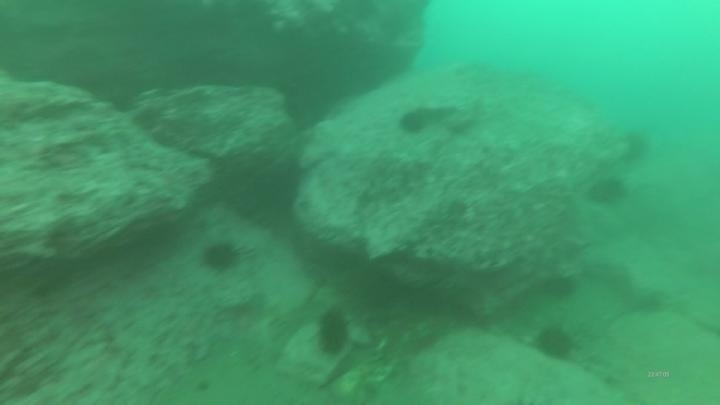echinus: (313, 305, 353, 360), (532, 323, 578, 364), (584, 174, 629, 209), (199, 238, 242, 274), (540, 270, 579, 303), (620, 128, 652, 165), (396, 107, 430, 138)
